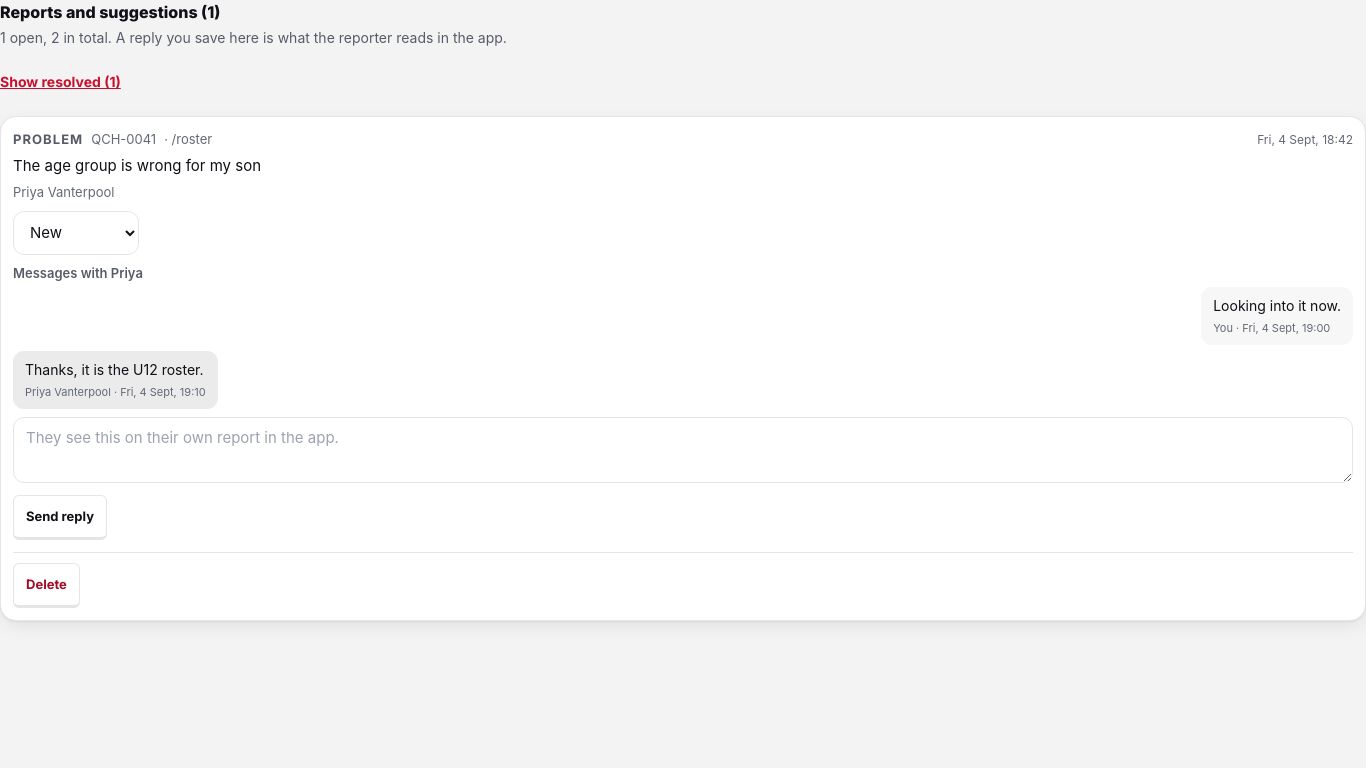
Test: hiding resolved reports › reveals them on the toggle, and says how many are hidden
Click the button with test id "toggle-resolved": click(60, 82) [0,60,121,104]
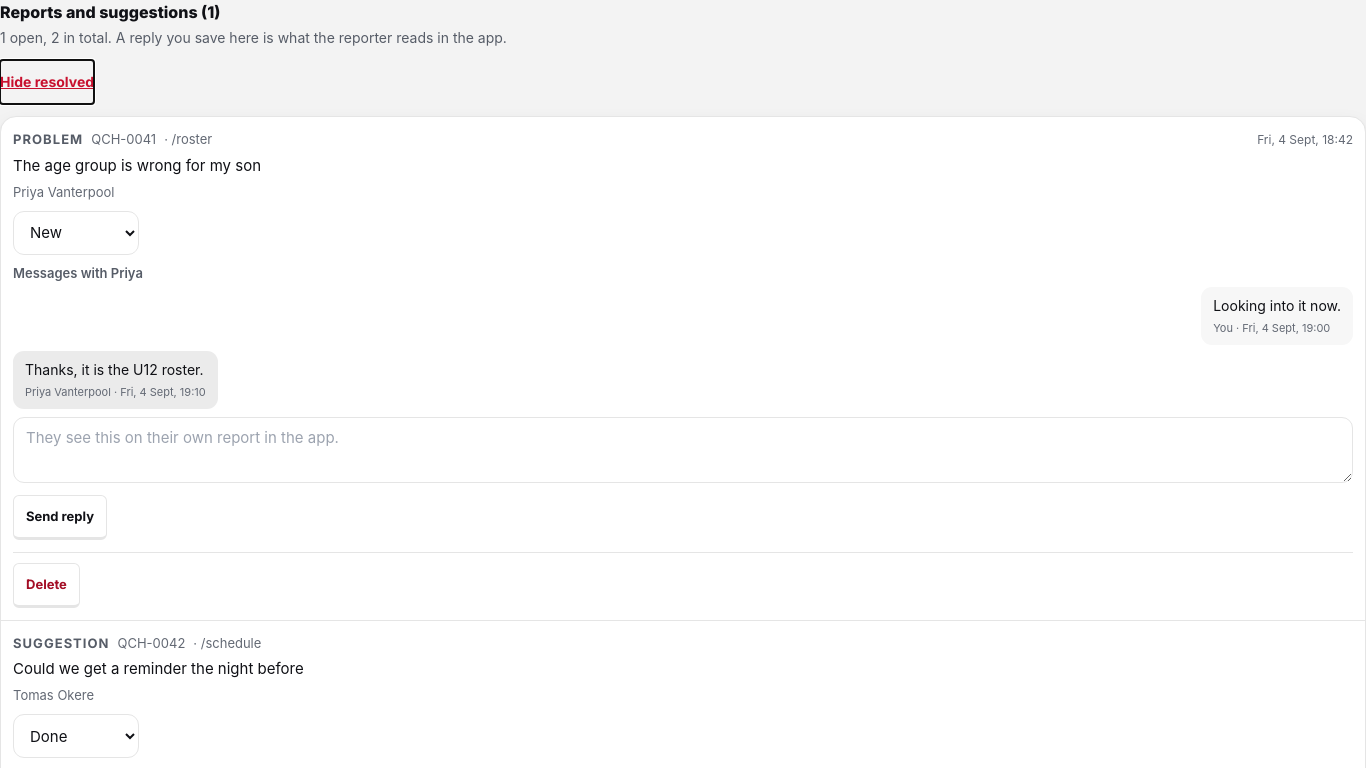
Expected: the text "Could we get a reminder the night before" is shown, [13,659,304,678]
Expected: the button with test id "toggle-resolved" reads "Hide resolved", [0,60,94,104]
